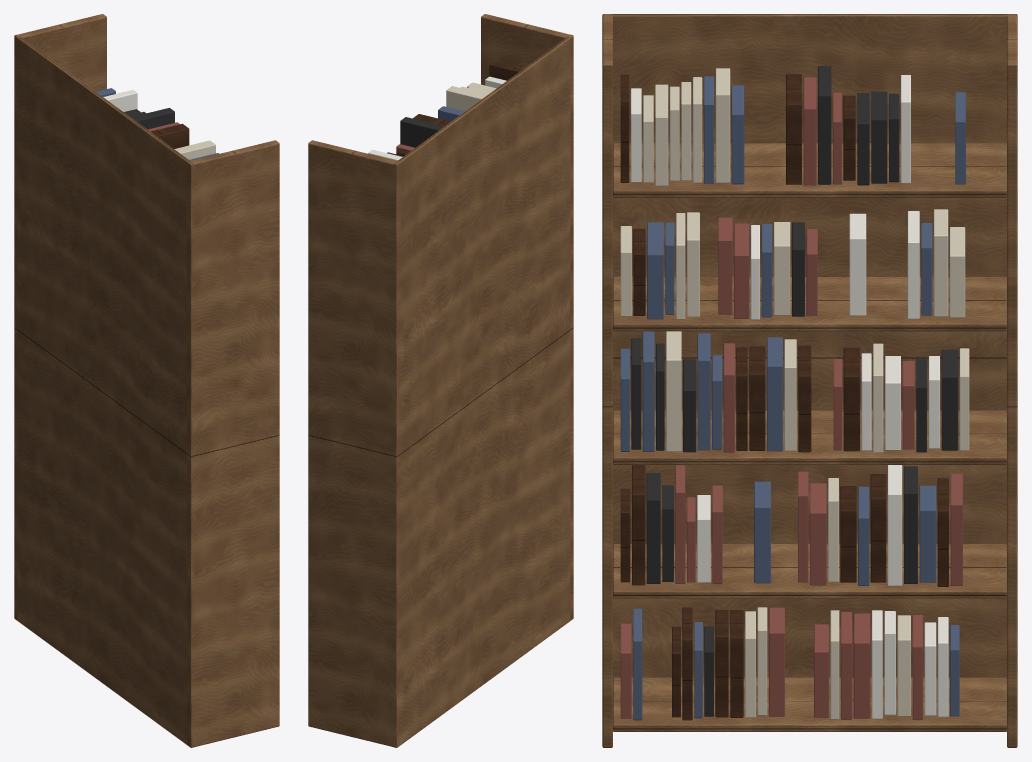
The model's file is study_bookshelf.glb.
3 views of the same model, side by side, from view 1: azimuth 30°, elevation 25°; view 2: azimuth 150°, elevation 25°; view 3: azimuth 270°, elevation 25° (orthographic). The views are drawn at different scales.
Visible parts, largest first — view 1: study_bookshelf; view 2: study_bookshelf; view 3: study_bookshelf.
Boxes of the visible parts, x1,y1,x2,y2 form: study_bookshelf: [14, 14, 279, 747]; study_bookshelf: [308, 14, 573, 747]; study_bookshelf: [602, 14, 1017, 747].
Size of the model in its own units: 0.32 by 2 by 1.1.
7 materials, 2 textured.
